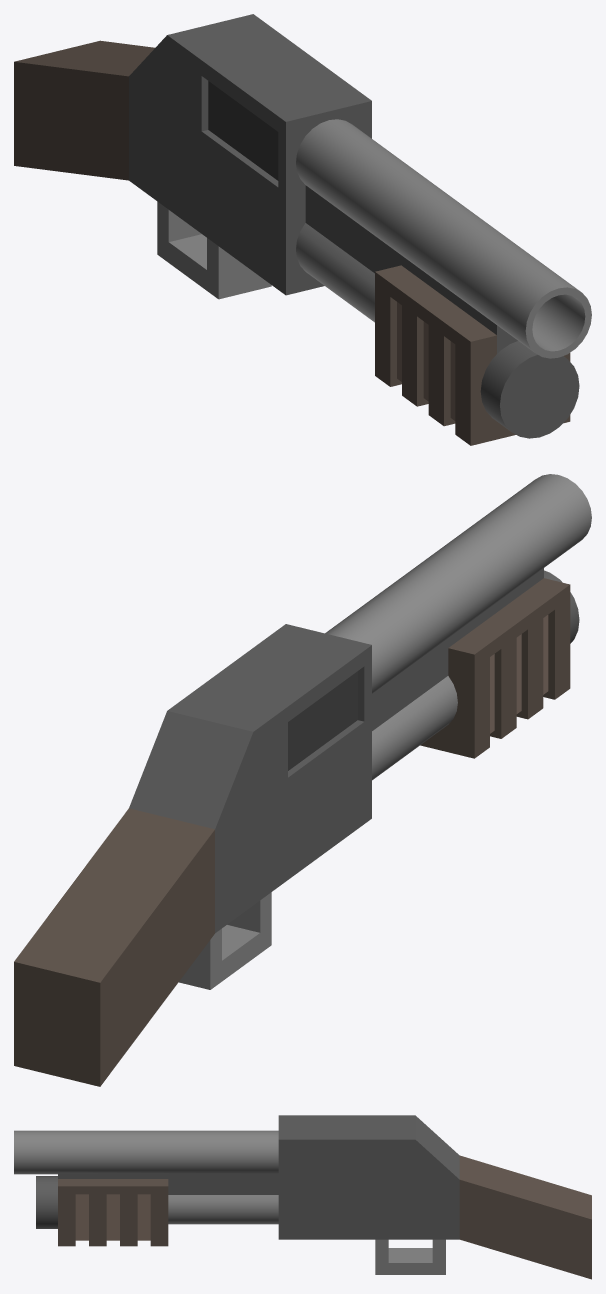
The model's file is shotgun.fbx.
The picture shows the model from 3 angles, top to bottom: view 1: azimuth 30°, elevation 25°; view 2: azimuth 150°, elevation 25°; view 3: azimuth 270°, elevation 25°; orthographic projection. The views are drawn at different scales.
Visible parts, largest first — view 1: Mesh1_Group2 Group1 Model, Mesh2_Group3 Group1 Model; view 2: Mesh1_Group2 Group1 Model, Mesh2_Group3 Group1 Model; view 3: Mesh1_Group2 Group1 Model, Mesh2_Group3 Group1 Model.
Part boxes in pixels (x1=…): Mesh1_Group2 Group1 Model: x1=14, y1=14, x2=591, y2=438; Mesh2_Group3 Group1 Model: x1=375, y1=265, x2=570, y2=445; Mesh1_Group2 Group1 Model: x1=14, y1=474, x2=591, y2=1086; Mesh2_Group3 Group1 Model: x1=420, y1=578, x2=570, y2=758; Mesh1_Group2 Group1 Model: x1=14, y1=1115, x2=591, y2=1279; Mesh2_Group3 Group1 Model: x1=58, y1=1179, x2=168, y2=1246.
Size of the model in its own units: 0.009 by 0.021 by 0.0786.
